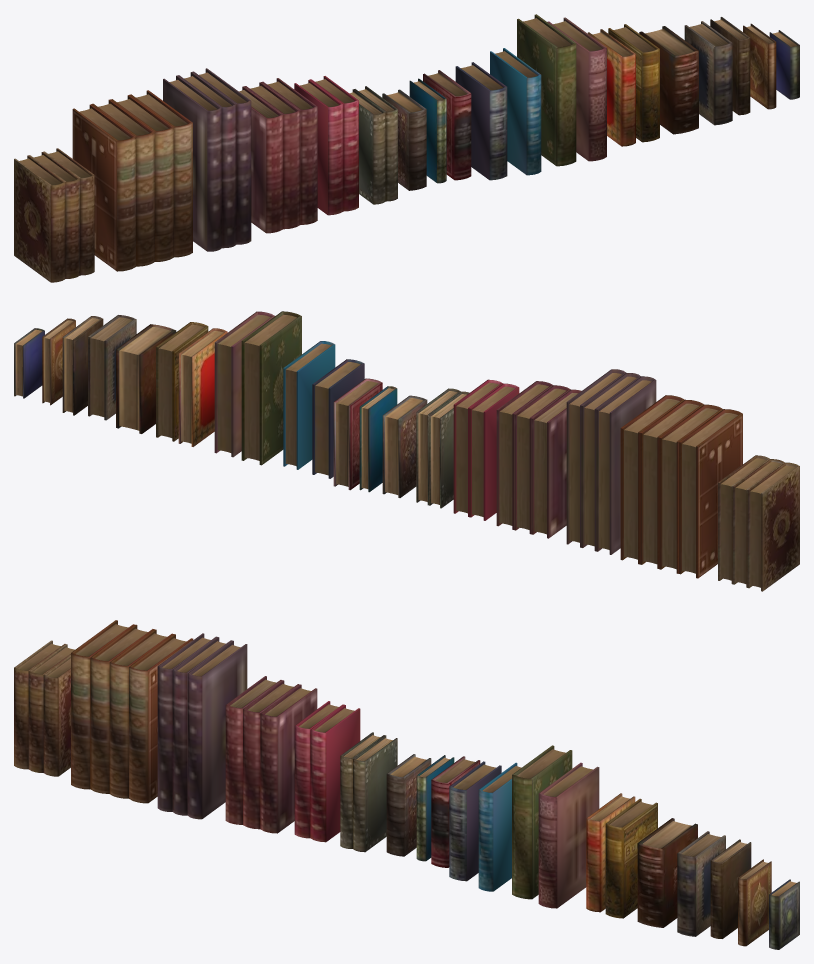
The model's file is booksA.glb.
3 renders of one model, top to bottom at view 1: azimuth 30°, elevation 25°; view 2: azimuth 150°, elevation 25°; view 3: azimuth 330°, elevation 25°, orthographic.
Parts seen in each view (by area): view 1: Burns_AntiqueBooks2_D_0, BlueBook_AntiqueBooksD_0; view 2: Burns_AntiqueBooks2_D_0, BlueBook_AntiqueBooksD_0; view 3: Burns_AntiqueBooks2_D_0, BlueBook_AntiqueBooksD_0.
Boxes of the visible parts, bbox=[...] form: Burns_AntiqueBooks2_D_0: bbox=[14, 14, 732, 282]; BlueBook_AntiqueBooksD_0: bbox=[350, 17, 799, 204]; Burns_AntiqueBooks2_D_0: bbox=[88, 311, 799, 591]; BlueBook_AntiqueBooksD_0: bbox=[14, 316, 469, 508]; Burns_AntiqueBooks2_D_0: bbox=[14, 620, 725, 936]; BlueBook_AntiqueBooksD_0: bbox=[340, 732, 799, 949].
Bounding box in the file's own units: 1.72 × 0.307 × 0.2024.
2 materials, 2 textured.
